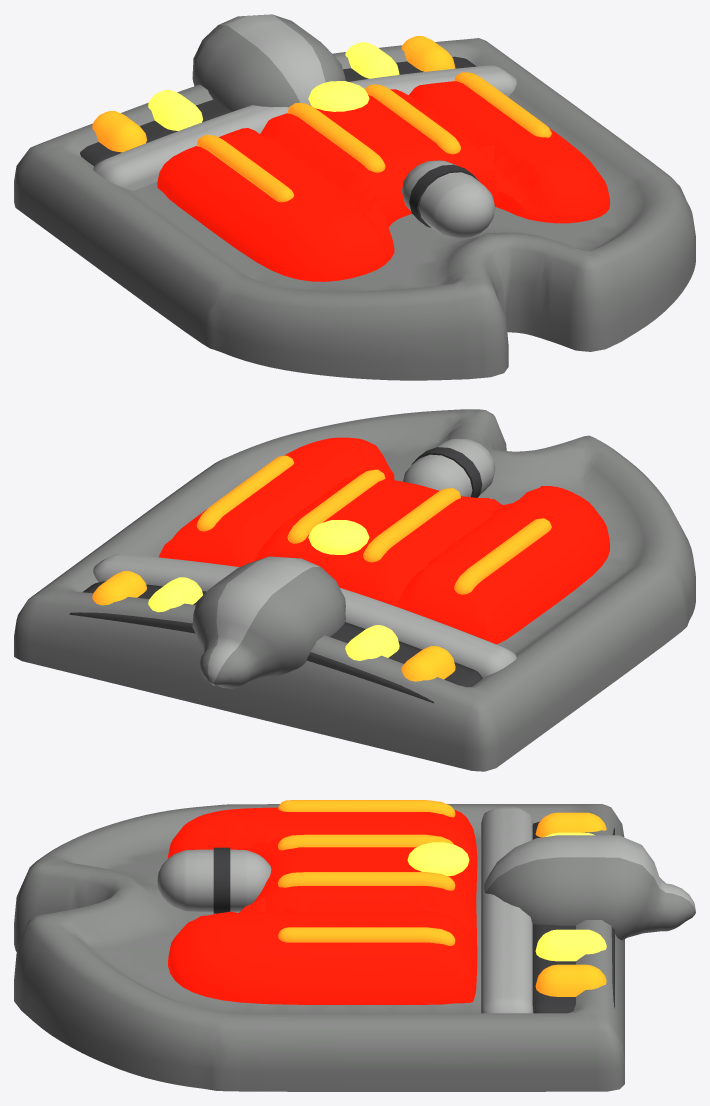
The model's file is store_shield_159.glb.
3 views of the same model, one above another, from view 1: azimuth 30°, elevation 25°; view 2: azimuth 150°, elevation 25°; view 3: azimuth 270°, elevation 25° (orthographic).
Visible parts, largest first — view 1: shield_steel, shield_red_core, shield_steel_light, spine, shield_red_rib, shield_lamp_yellow, shield_steel_dark, shield_lamp_orange; view 2: shield_steel, shield_red_core, spine, shield_steel_light, shield_red_rib, shield_steel_dark, shield_lamp_yellow, shield_lamp_orange; view 3: shield_steel, shield_red_core, spine, shield_steel_light, shield_red_rib, shield_lamp_yellow, shield_steel_dark, shield_lamp_orange.
Part boxes in pixels (x1=…): shield_steel: x1=14, y1=38, x2=695, y2=380; shield_red_core: x1=157, y1=81, x2=609, y2=281; shield_steel_light: x1=93, y1=65, x2=516, y2=238; spine: x1=192, y1=14, x2=345, y2=111; shield_red_rib: x1=197, y1=72, x2=551, y2=202; shield_lamp_yellow: x1=148, y1=42, x2=399, y2=130; shield_steel_dark: x1=80, y1=56, x2=478, y2=227; shield_lamp_orange: x1=92, y1=36, x2=455, y2=152; shield_steel: x1=14, y1=409, x2=695, y2=771; shield_red_core: x1=159, y1=437, x2=609, y2=644; spine: x1=192, y1=556, x2=345, y2=688; shield_steel_light: x1=93, y1=438, x2=516, y2=677; shield_red_rib: x1=196, y1=455, x2=551, y2=594; shield_steel_dark: x1=69, y1=447, x2=482, y2=703; shield_lamp_yellow: x1=148, y1=520, x2=399, y2=660; shield_lamp_orange: x1=92, y1=571, x2=455, y2=681; shield_steel: x1=14, y1=804, x2=624, y2=1091; shield_red_core: x1=168, y1=807, x2=477, y2=1004; spine: x1=483, y1=835, x2=695, y2=940; shield_steel_light: x1=157, y1=807, x2=533, y2=1013; shield_red_rib: x1=278, y1=800, x2=455, y2=945; shield_lamp_yellow: x1=407, y1=832, x2=606, y2=961; shield_steel_dark: x1=213, y1=821, x2=614, y2=1013; shield_lamp_orange: x1=535, y1=812, x2=606, y2=996.
Size of the model in its own units: 17.23 by 4.4 by 20.85.
